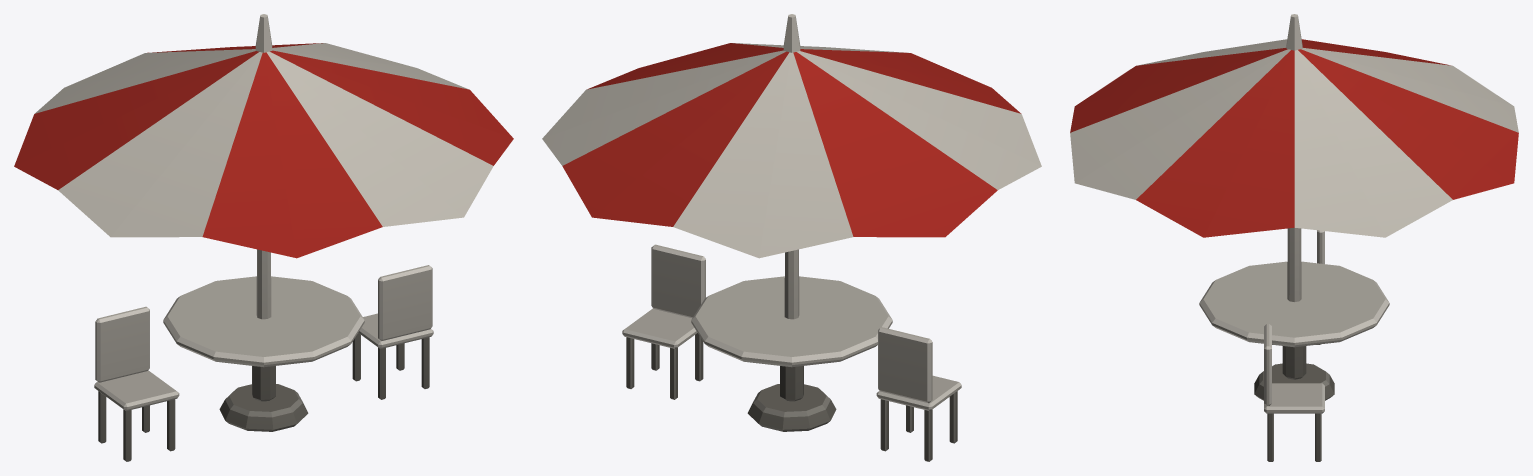
File: cafe-umbrella-v1.glb
The picture shows the model from 3 angles, left to right: view 1: azimuth 30°, elevation 25°; view 2: azimuth 150°, elevation 25°; view 3: azimuth 270°, elevation 25°; orthographic projection. The views are drawn at different scales.
Visible parts, largest first — view 1: cafe-umbrella-v1.lod0; view 2: cafe-umbrella-v1.lod0; view 3: cafe-umbrella-v1.lod0.
Boxes of the visible parts, <box> form: cafe-umbrella-v1.lod0: <box>14,14,513,461</box>; cafe-umbrella-v1.lod0: <box>542,14,1041,461</box>; cafe-umbrella-v1.lod0: <box>1070,14,1518,461</box>.
Bounding box in the file's own units: 3.4 × 3.15 × 3.4.
